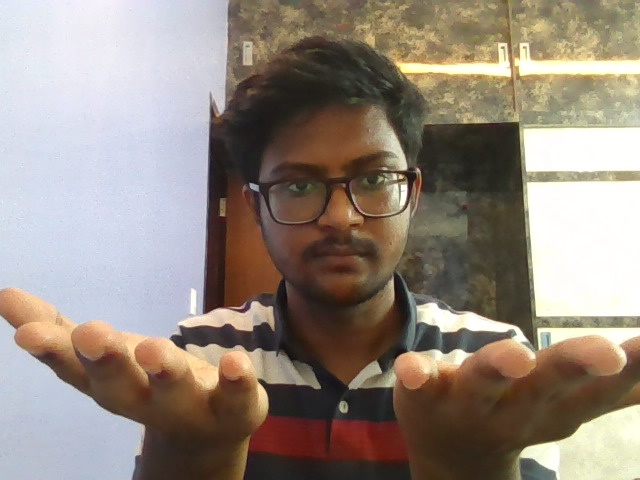what: (1, 276, 640, 455)
